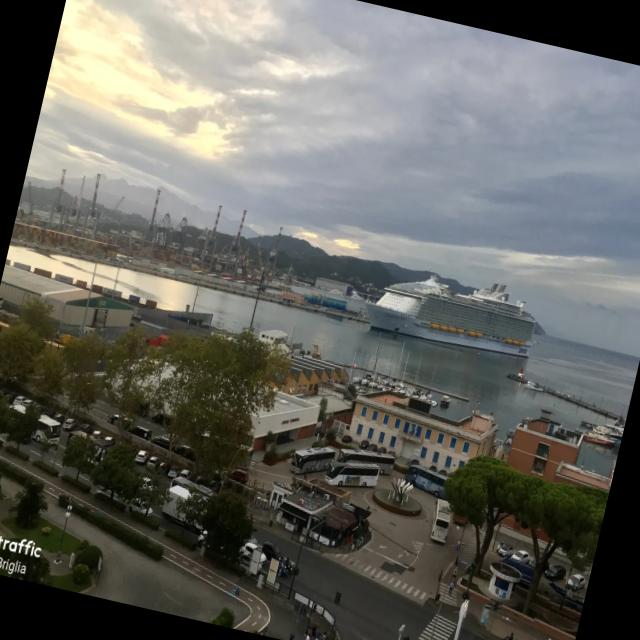Cruise: (367, 274, 534, 357)
